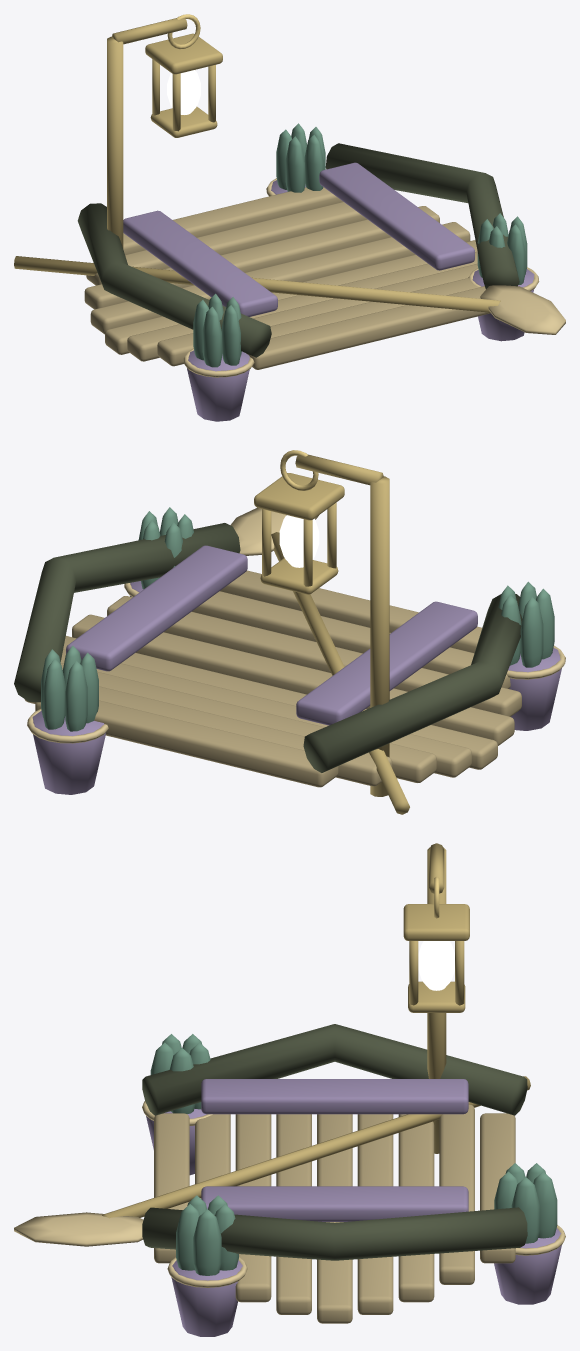
File: discovery_moss-ferry.glb
3 renders of one model, top to bottom at view 1: azimuth 30°, elevation 25°; view 2: azimuth 150°, elevation 25°; view 3: azimuth 270°, elevation 25°, orthographic. The views are drawn at different scales.
Visible parts, largest first — view 1: discovery_moss-ferry_part_0, discovery_moss-ferry_part_1; view 2: discovery_moss-ferry_part_0, discovery_moss-ferry_part_1; view 3: discovery_moss-ferry_part_0, discovery_moss-ferry_part_1.
Boxes of the visible parts, <box> form: discovery_moss-ferry_part_0: <box>14,14,565,421</box>; discovery_moss-ferry_part_1: <box>167,70,200,114</box>; discovery_moss-ferry_part_0: <box>14,450,565,814</box>; discovery_moss-ferry_part_1: <box>279,515,319,567</box>; discovery_moss-ferry_part_0: <box>14,843,565,1336</box>; discovery_moss-ferry_part_1: <box>418,941,454,990</box>.
Size of the model in its own units: 4.04 by 2.86 by 4.34.
